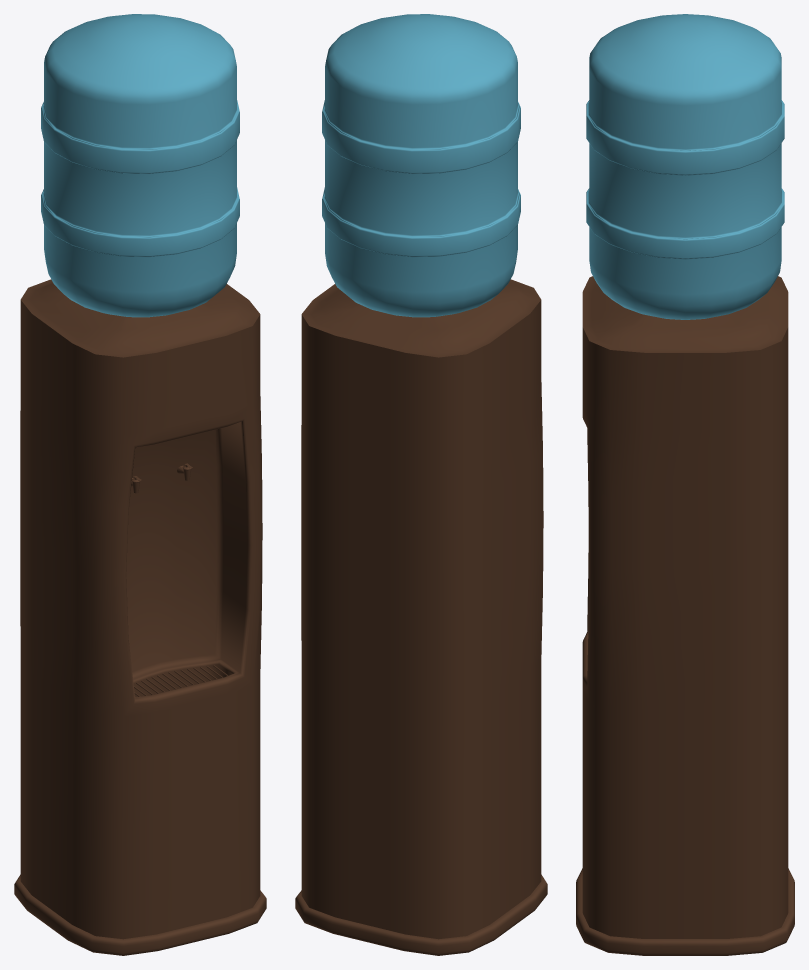
Rendered from water.FBX.
The picture shows the model from 3 angles, left to right: view 1: azimuth 30°, elevation 25°; view 2: azimuth 150°, elevation 25°; view 3: azimuth 270°, elevation 25°; orthographic projection.
Visible parts, largest first — view 1: Box011; view 2: Box011; view 3: Box011.
Part boxes in pixels (bbox=[...]): Box011: bbox=[14, 14, 266, 955]; Box011: bbox=[295, 14, 547, 955]; Box011: bbox=[576, 14, 794, 955].
Bounding box in the file's own units: 0.4455 × 1.98 × 0.4456.
